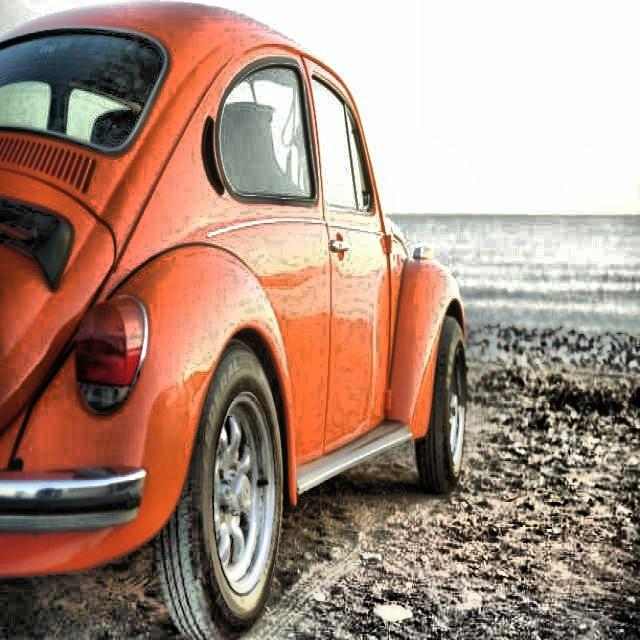carro: (0, 0, 466, 628)
